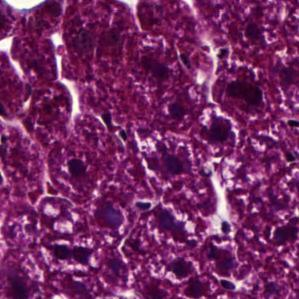inflammation: (148, 199, 197, 245), (198, 234, 242, 285), (196, 105, 244, 150)
